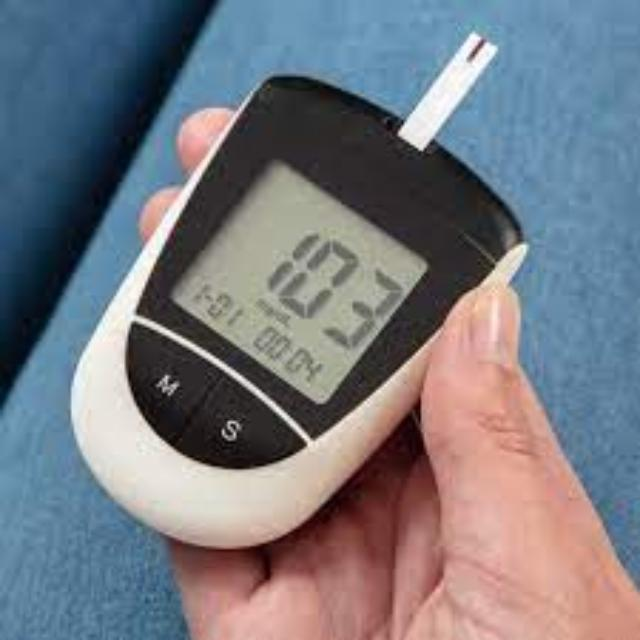Glucose-Meter: (72, 35, 525, 547)
